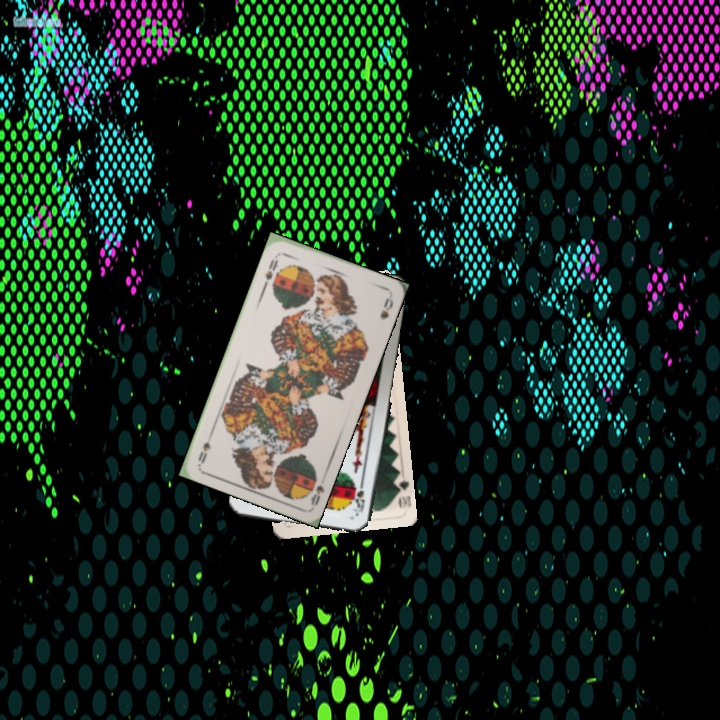G10: (391, 475, 413, 511)
SK: (351, 476, 368, 516)
SO: (304, 467, 327, 508), (260, 251, 282, 289)
